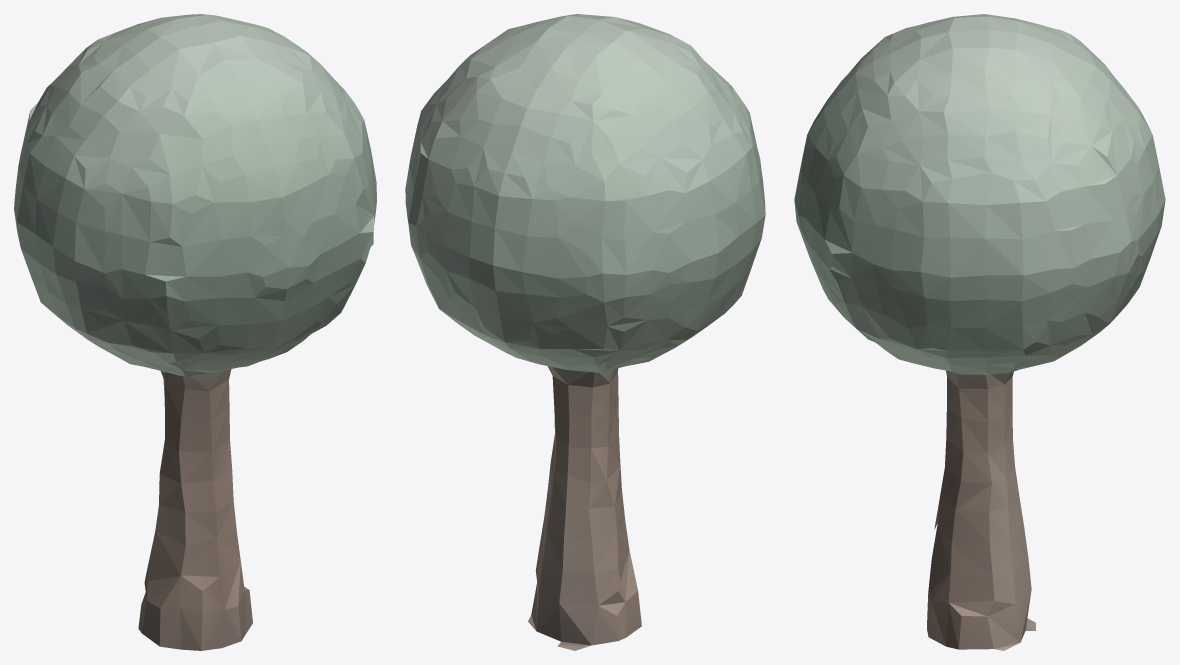
File: prop_arvore.glb
The picture shows the model from 3 angles, left to right: view 1: azimuth 30°, elevation 25°; view 2: azimuth 150°, elevation 25°; view 3: azimuth 270°, elevation 25°; orthographic projection.
Size of the model in its own units: 0.547 by 0.9999 by 0.5577.
